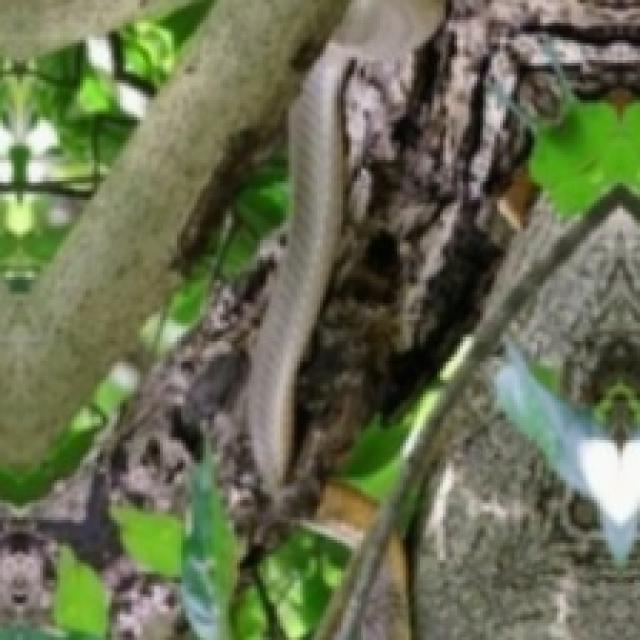king cobra: (246, 0, 443, 489)
